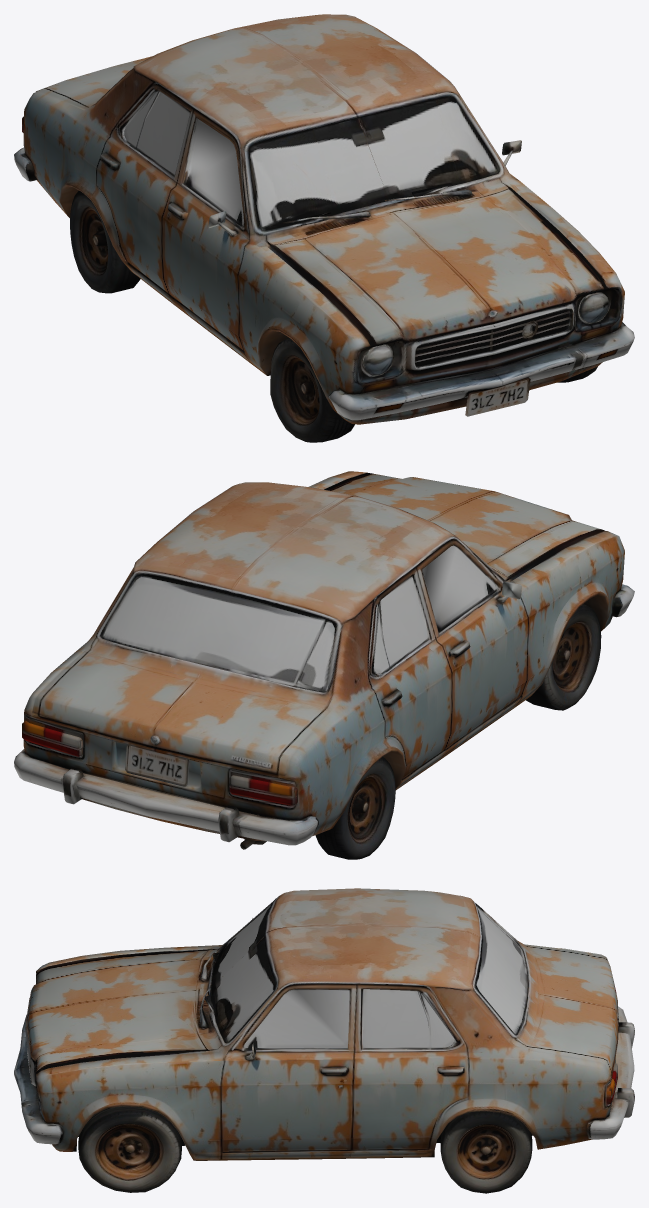
File: rusty_sedan.fbx
The picture shows the model from 3 angles, top to bottom: view 1: azimuth 30°, elevation 25°; view 2: azimuth 150°, elevation 25°; view 3: azimuth 270°, elevation 25°; orthographic projection. The views are drawn at different scales.
Visible parts, largest first — view 1: tripo_node_9ee6354a; view 2: tripo_node_9ee6354a; view 3: tripo_node_9ee6354a.
Boxes of the visible parts, x1,y1,x2,y2 form: tripo_node_9ee6354a: (14,14,634,442); tripo_node_9ee6354a: (14,471,634,859); tripo_node_9ee6354a: (14,888,634,1193).
Size of the model in its own units: 50.34 by 99.95 by 37.84.
Materials: 1 (1 with a texture image).
